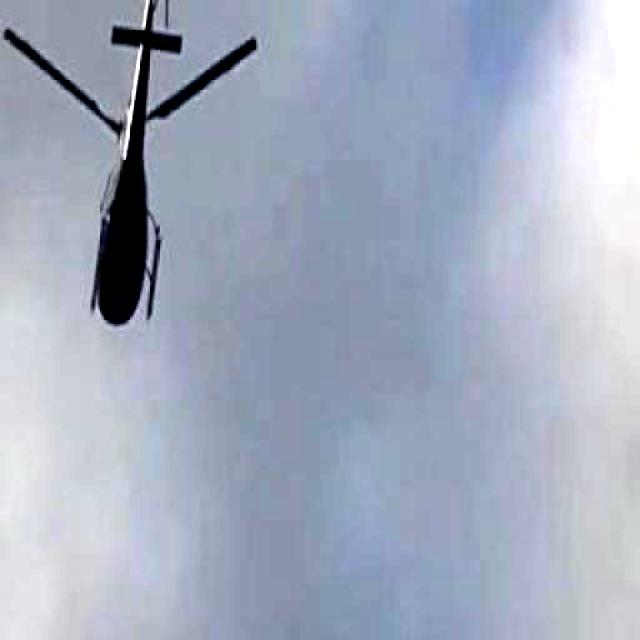drone: (0, 0, 261, 355)
